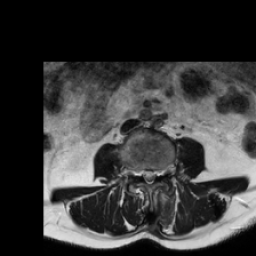CCS_stenosis: (146, 164, 152, 188)
LFS_stenosis: (157, 163, 163, 180)
LLS_normal: (152, 164, 157, 186)
RFS_stenosis: (135, 164, 141, 182)
RLS_normal: (141, 165, 146, 183)
